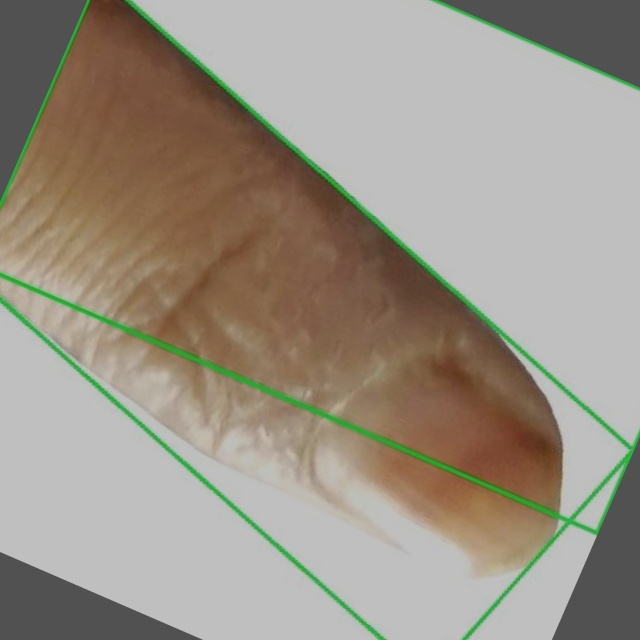Contact Dermatitis: (0, 0, 634, 639), (0, 0, 639, 533)
